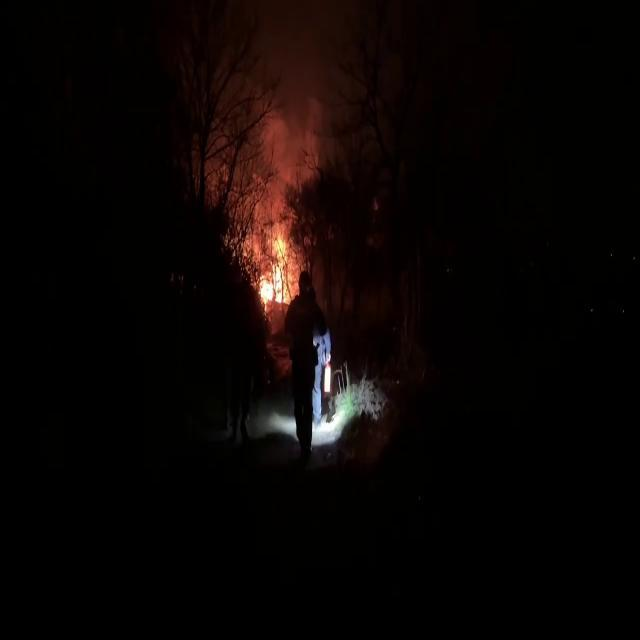Fire: (256, 228, 296, 314)
Smoke: (208, 1, 373, 201)
